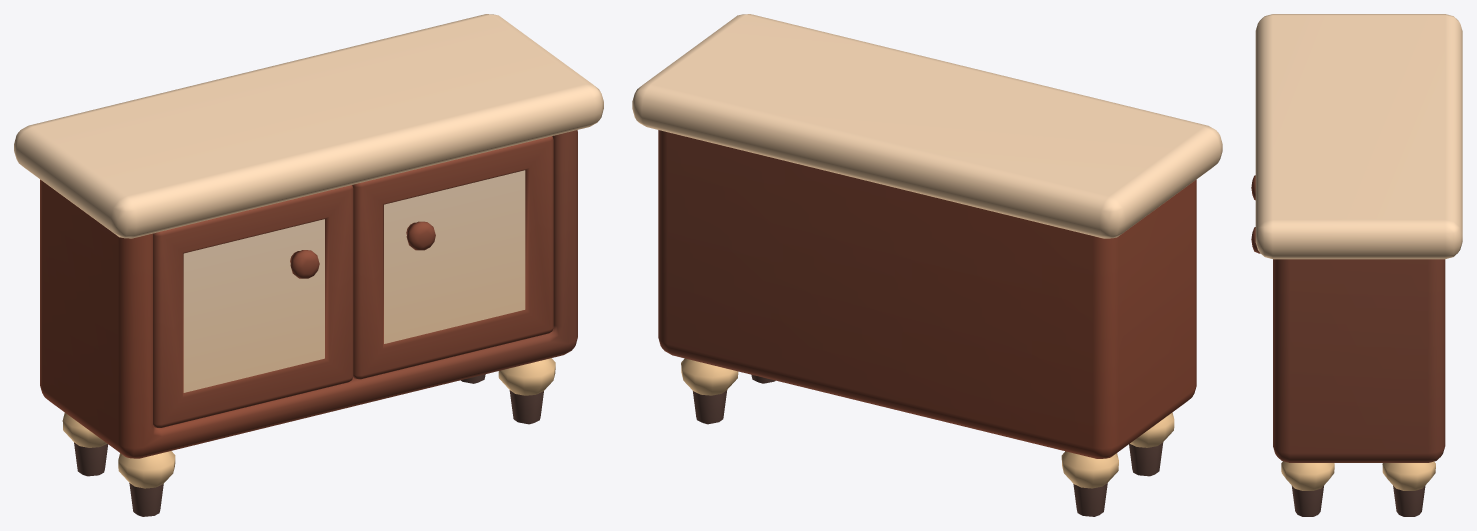
The model's file is Cabinet_001.fbx.
The picture shows the model from 3 angles, left to right: view 1: azimuth 30°, elevation 25°; view 2: azimuth 150°, elevation 25°; view 3: azimuth 270°, elevation 25°; orthographic projection. The views are drawn at different scales.
Visible parts, largest first — view 1: Cabinet_001; view 2: Cabinet_001; view 3: Cabinet_001.
Boxes of the visible parts, bbox=[...] form: Cabinet_001: bbox=[14, 14, 603, 516]; Cabinet_001: bbox=[632, 14, 1222, 516]; Cabinet_001: bbox=[1251, 14, 1462, 516].
Size of the model in its own units: 1.2 by 0.7966 by 0.4898.
